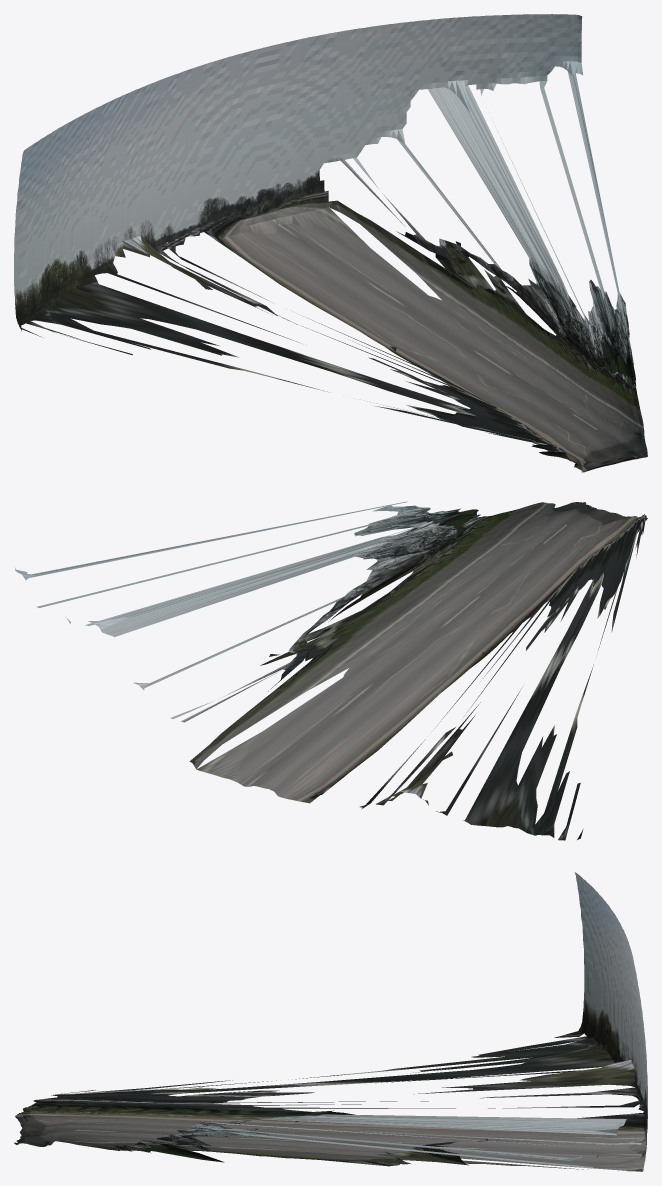
3 views of the same model, one above another, from view 1: azimuth 30°, elevation 25°; view 2: azimuth 150°, elevation 25°; view 3: azimuth 270°, elevation 25° (orthographic). The views are drawn at different scales.
Parts seen in each view (by area): view 1: defaultobject; view 2: defaultobject; view 3: defaultobject.
Part boxes in pixels (left/top/right/bottom): defaultobject: left=14, top=14, right=647, bottom=472; defaultobject: left=14, top=501, right=647, bottom=840; defaultobject: left=14, top=872, right=647, bottom=1171.
Bounding box in the file's own units: 40.97 × 13.55 × 44.57.
1 material, 1 textured.
